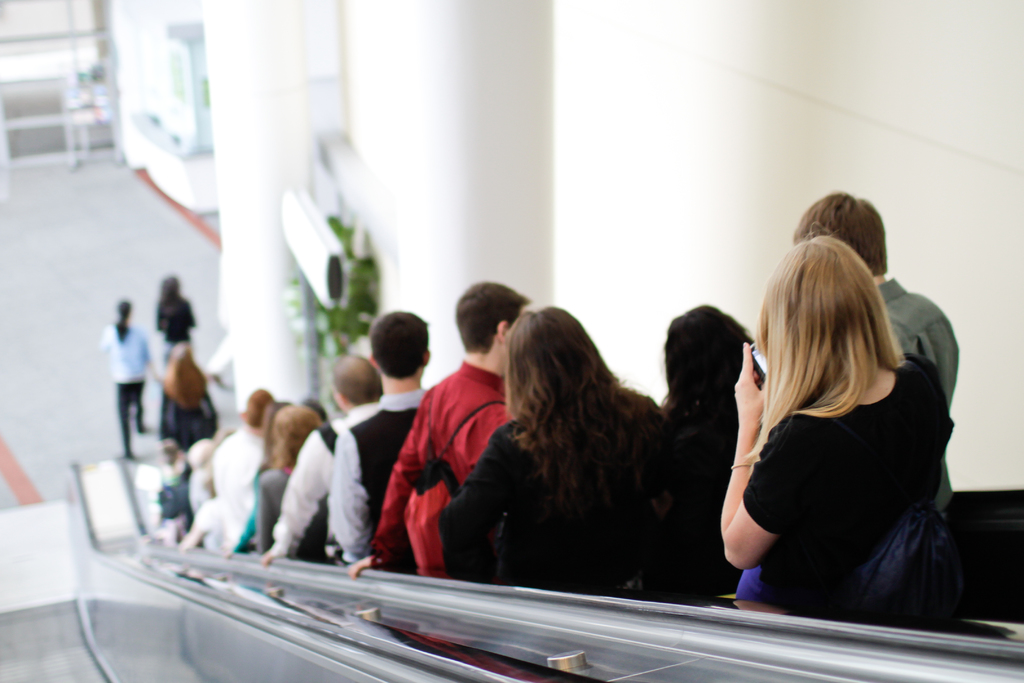Human_hand: (733, 342, 763, 426), (348, 552, 383, 582), (258, 549, 278, 568)
